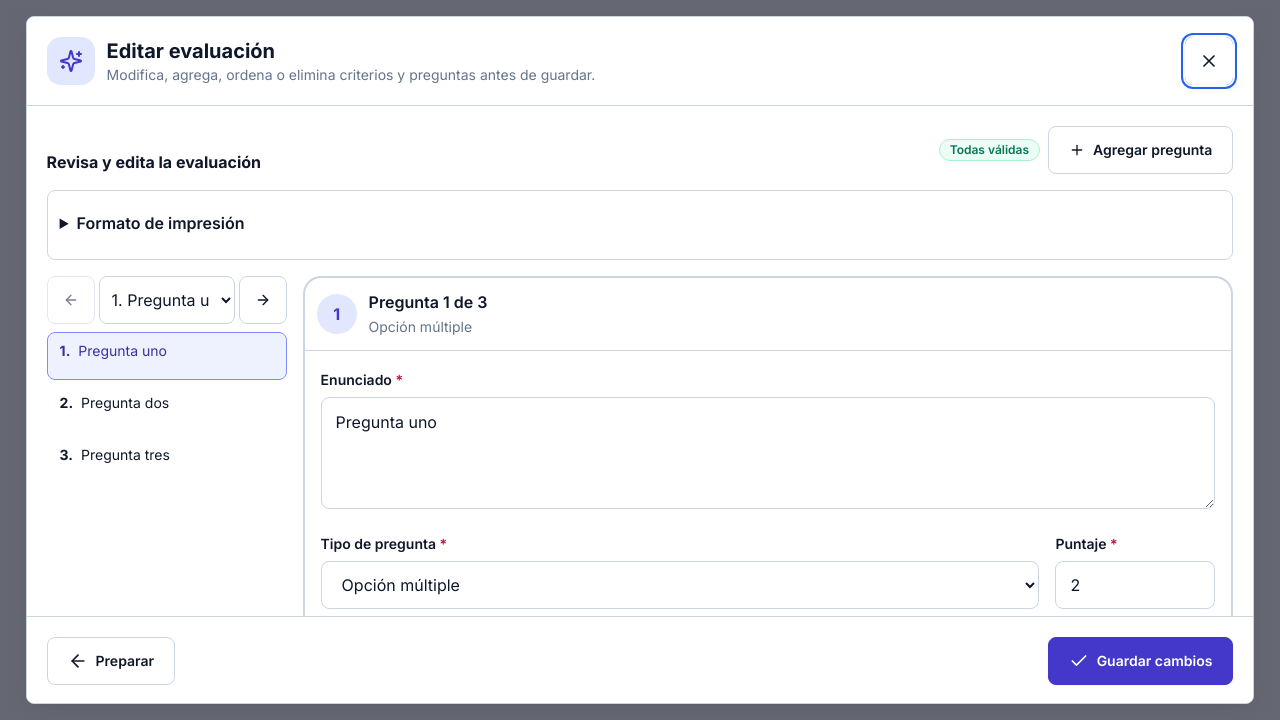
Test case: GenerationWizard › 125 discards only the local edit after confirmation without updating the evaluation
Type " cambio local" into the text box labelled "Enunciado *" at (768, 453), box 321,397 -> 1215,509
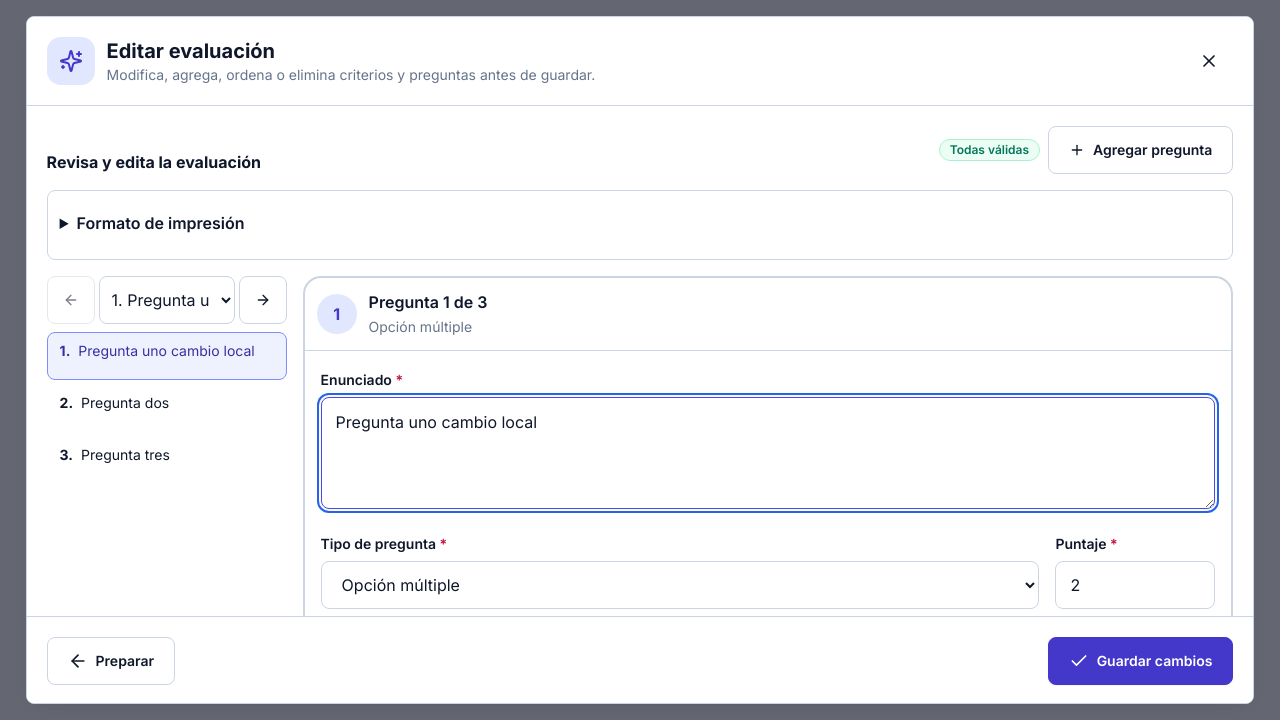
Click the button named "Cerrar asistente" at (1209, 61), box 1185,37 -> 1233,85
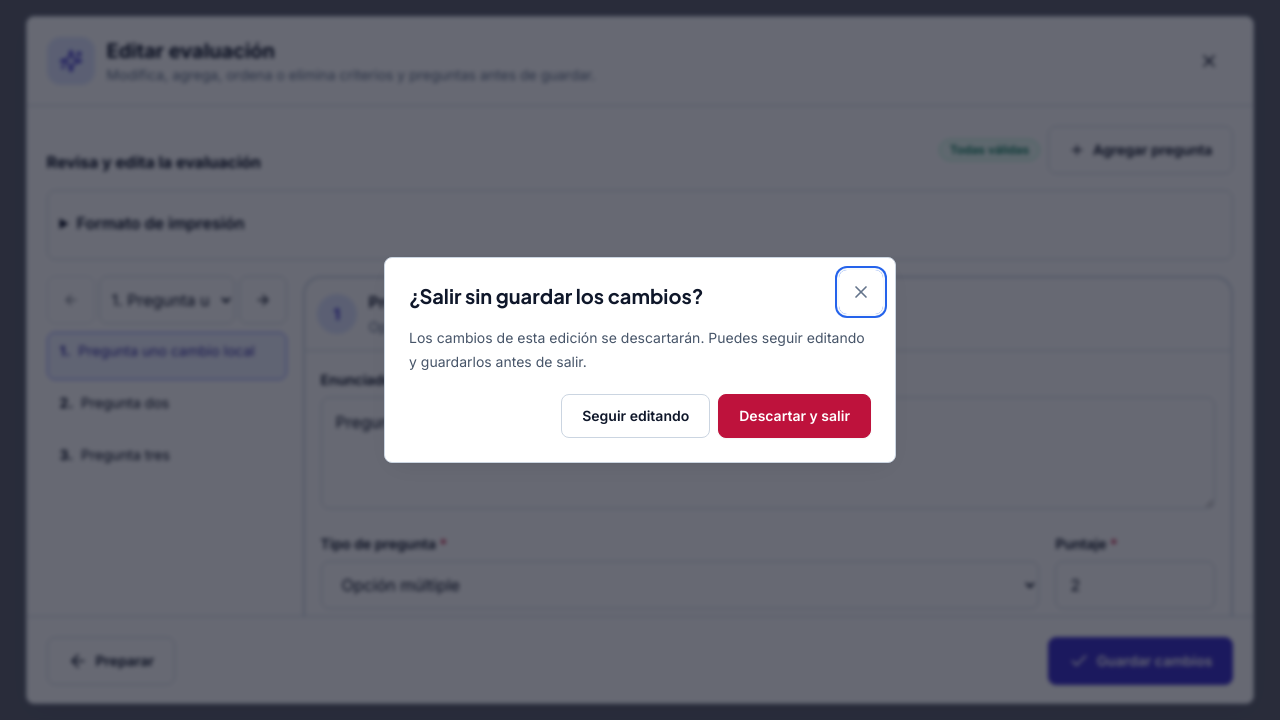
Click the button "Descartar y salir" at (795, 416), box 718,394 -> 871,438
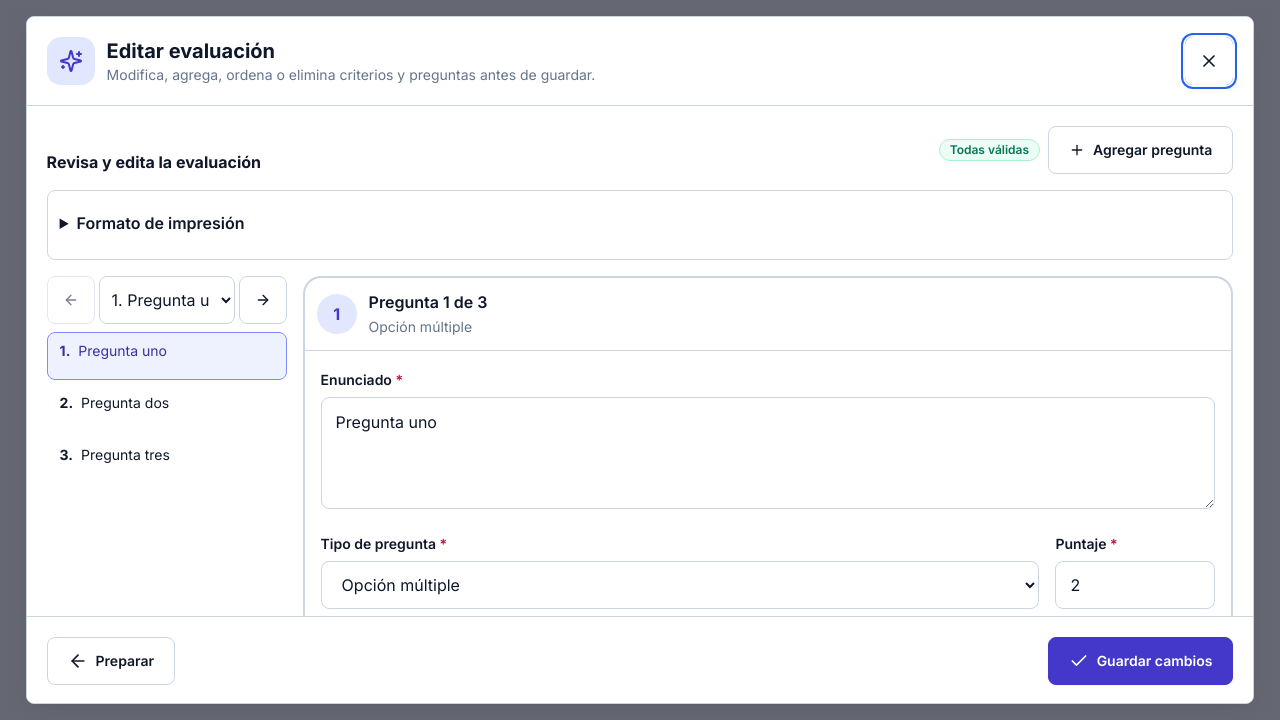
Check: the text box labelled "Enunciado *" holds "Pregunta uno", box 321,397 -> 1215,509
